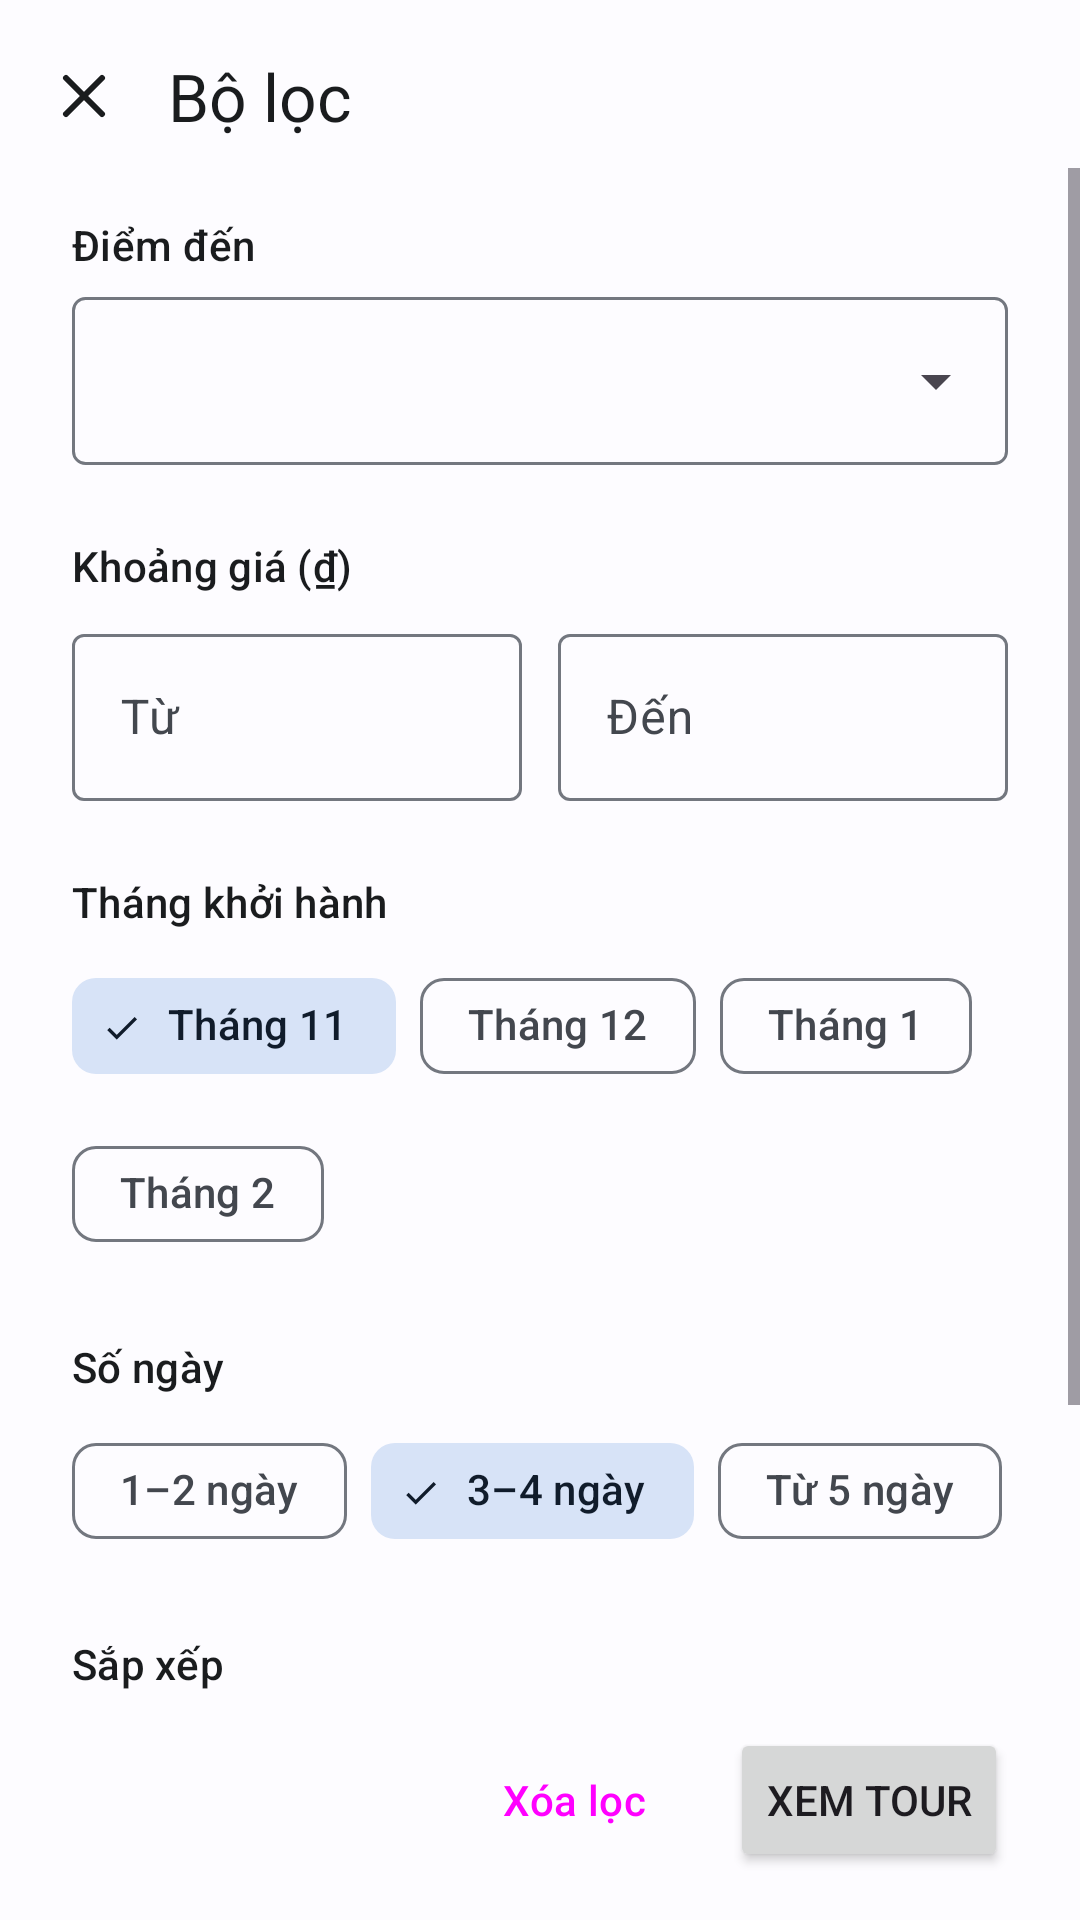

Locate icon controls on the screen. Image size 1080×1920, boxes as (x1, y1, x2, y2).
Đóng: (63, 75, 105, 117)
